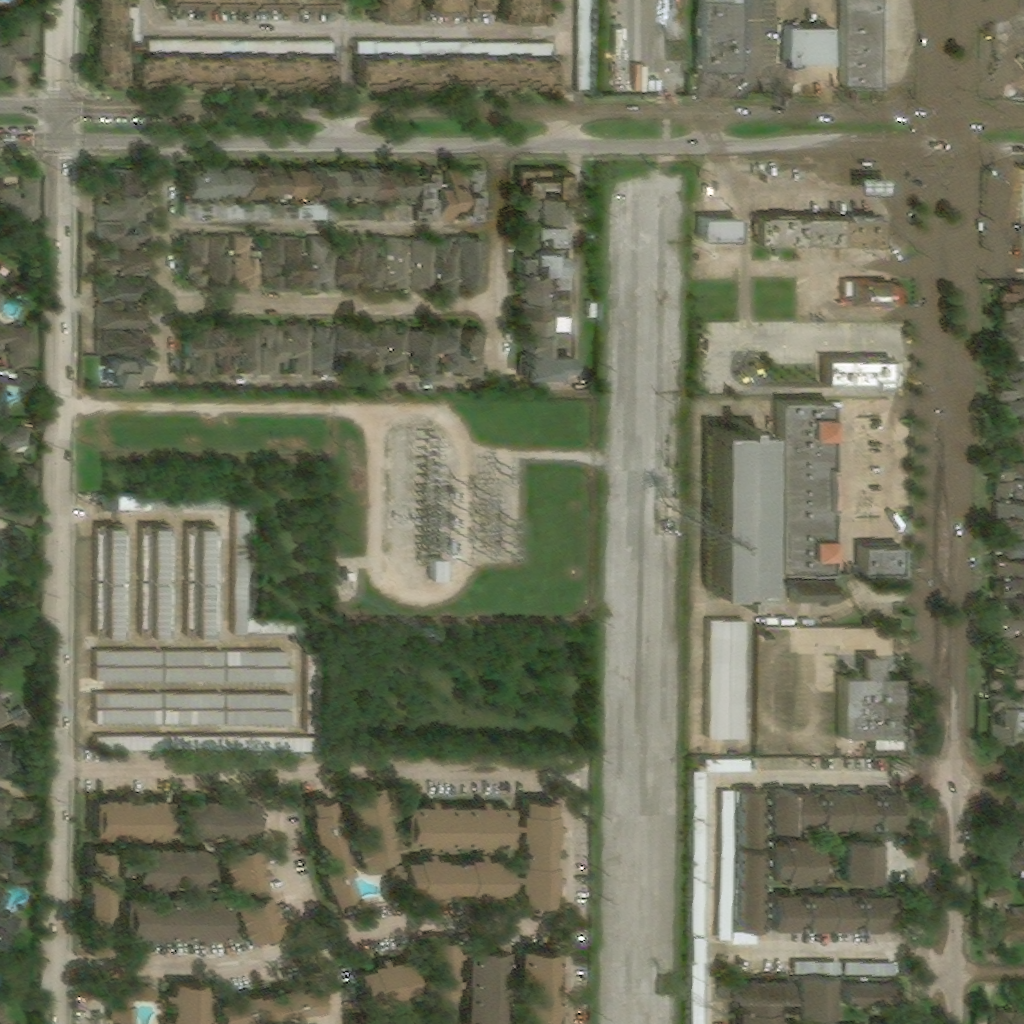destroyed: (885, 187, 914, 198)
major_damage: (699, 0, 743, 70), (787, 24, 835, 64), (859, 172, 889, 190), (1012, 47, 1022, 55)
minor_damage: (842, 653, 905, 742), (760, 210, 885, 250), (844, 0, 882, 90), (829, 890, 885, 937), (846, 786, 901, 831), (824, 354, 894, 387), (990, 882, 1022, 944), (846, 279, 905, 308), (863, 542, 902, 572), (999, 280, 1022, 319), (995, 436, 1022, 461), (997, 414, 1022, 440), (988, 479, 1022, 497), (997, 555, 1022, 579), (993, 600, 1022, 620), (993, 462, 1022, 482), (995, 579, 1022, 600), (997, 498, 1022, 520), (1000, 317, 1022, 341), (995, 538, 1022, 556), (997, 382, 1022, 400), (999, 521, 1022, 540), (1002, 342, 1022, 361), (1001, 362, 1022, 380), (1007, 401, 1022, 411)
no_damage: (710, 406, 763, 596), (780, 398, 832, 576), (236, 497, 297, 640), (308, 792, 360, 908), (403, 796, 512, 849), (344, 780, 400, 878), (121, 894, 229, 941), (514, 795, 557, 909), (709, 619, 748, 742), (405, 852, 512, 896), (187, 205, 413, 224), (217, 984, 326, 1023), (98, 736, 315, 755), (125, 843, 214, 889), (91, 791, 170, 840), (314, 161, 413, 200), (83, 846, 116, 958), (722, 975, 793, 1023), (176, 793, 253, 837), (466, 943, 508, 1023), (518, 943, 559, 1023), (95, 0, 131, 84), (515, 252, 551, 332), (359, 956, 420, 1002), (770, 889, 828, 937), (168, 0, 338, 16), (771, 834, 822, 886), (234, 890, 280, 945), (163, 977, 213, 1023), (721, 790, 736, 943), (222, 842, 266, 894), (187, 163, 245, 202), (1, 22, 36, 82), (0, 173, 44, 220), (739, 847, 763, 933), (799, 972, 838, 1023), (109, 349, 159, 388), (0, 373, 43, 417), (0, 325, 41, 371), (92, 165, 149, 198), (0, 488, 43, 530), (842, 977, 902, 1007), (0, 836, 35, 887), (844, 836, 881, 884), (114, 984, 158, 1023), (0, 887, 25, 953), (534, 191, 574, 232), (460, 235, 488, 292), (245, 164, 287, 202), (101, 194, 154, 224), (521, 166, 573, 196), (154, 496, 232, 515), (386, 325, 413, 379), (522, 327, 576, 354), (462, 169, 488, 225), (415, 166, 438, 229), (312, 323, 338, 378), (209, 237, 235, 291), (740, 785, 763, 846), (412, 321, 436, 379), (501, 0, 554, 26), (261, 322, 286, 377), (236, 237, 261, 292), (0, 787, 33, 828), (286, 237, 311, 291), (792, 580, 840, 608), (988, 821, 1014, 872), (311, 238, 336, 291), (213, 322, 237, 377), (337, 323, 361, 378), (101, 250, 151, 276), (100, 225, 154, 249), (461, 326, 485, 380), (186, 237, 210, 291), (262, 237, 286, 291), (101, 331, 152, 356), (188, 325, 212, 378), (413, 239, 437, 292), (362, 324, 385, 379), (438, 239, 461, 294), (439, 169, 462, 224), (361, 239, 386, 289), (100, 278, 148, 304), (337, 238, 361, 290), (0, 422, 28, 466), (100, 306, 149, 331), (438, 323, 462, 374), (238, 324, 261, 377), (288, 323, 311, 375), (819, 787, 846, 831), (387, 240, 411, 289), (367, 0, 415, 24), (703, 214, 741, 244), (97, 669, 164, 686), (229, 669, 296, 686), (98, 651, 165, 668), (98, 693, 164, 710), (229, 712, 294, 729), (792, 786, 821, 824), (167, 651, 227, 669), (770, 786, 792, 835), (98, 712, 165, 728), (286, 163, 314, 200), (229, 695, 293, 711), (167, 670, 227, 687), (230, 652, 289, 669), (418, 0, 476, 17), (166, 695, 227, 711), (166, 712, 226, 728), (153, 582, 170, 638), (992, 696, 1014, 739), (199, 525, 215, 582), (107, 582, 123, 638), (199, 582, 215, 638), (153, 525, 169, 580), (208, 70, 259, 87), (107, 525, 122, 580), (556, 250, 575, 290), (997, 653, 1022, 679), (534, 246, 557, 274), (351, 1017, 458, 1023), (121, 497, 153, 515), (518, 195, 541, 219), (18, 469, 42, 491), (996, 638, 1022, 658), (0, 698, 15, 732), (554, 223, 573, 249), (132, 9, 146, 44), (513, 73, 544, 88), (482, 73, 511, 88), (523, 233, 554, 247), (433, 559, 450, 584), (994, 1008, 1022, 1023), (1000, 620, 1022, 638), (100, 495, 119, 515), (0, 739, 9, 781), (154, 72, 181, 86), (557, 291, 572, 316), (406, 75, 431, 88), (736, 933, 759, 947), (182, 74, 204, 88), (556, 317, 573, 333), (478, 0, 498, 13), (1014, 841, 1022, 873), (463, 74, 480, 89), (364, 74, 381, 86), (272, 74, 286, 86), (591, 296, 599, 317), (302, 70, 314, 82), (260, 73, 271, 86), (287, 72, 302, 81), (873, 1018, 897, 1023), (0, 1006, 6, 1023), (345, 570, 354, 581), (384, 72, 393, 82), (0, 557, 4, 571)
